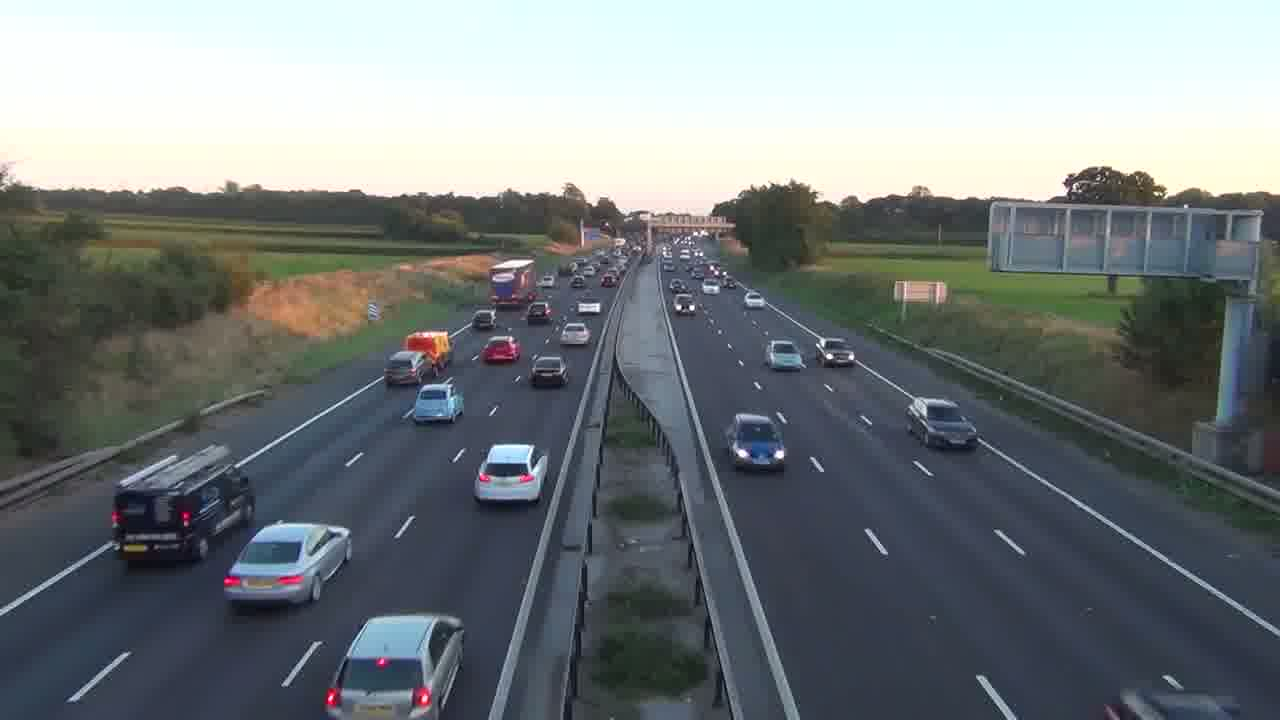car: (322, 612, 466, 718), (223, 521, 353, 608), (473, 442, 549, 504), (724, 412, 787, 473), (412, 379, 465, 424), (384, 350, 426, 387), (529, 353, 569, 388), (766, 340, 805, 372), (816, 337, 856, 368), (481, 336, 521, 364), (559, 321, 592, 345), (744, 290, 765, 308), (702, 281, 721, 294)
truck: (110, 441, 257, 566)
